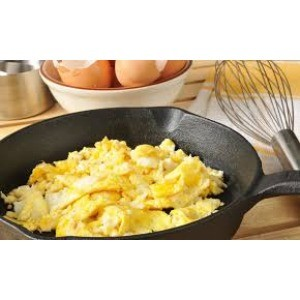egg_brain food: (30, 149, 188, 215), (54, 65, 170, 94)
